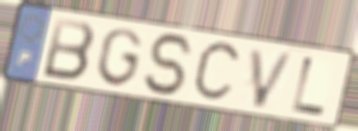B: (40, 15, 98, 84)
C: (189, 38, 244, 105)
G: (94, 26, 145, 89)
L: (289, 54, 329, 118)
S: (142, 31, 197, 98)
V: (248, 45, 297, 111)
